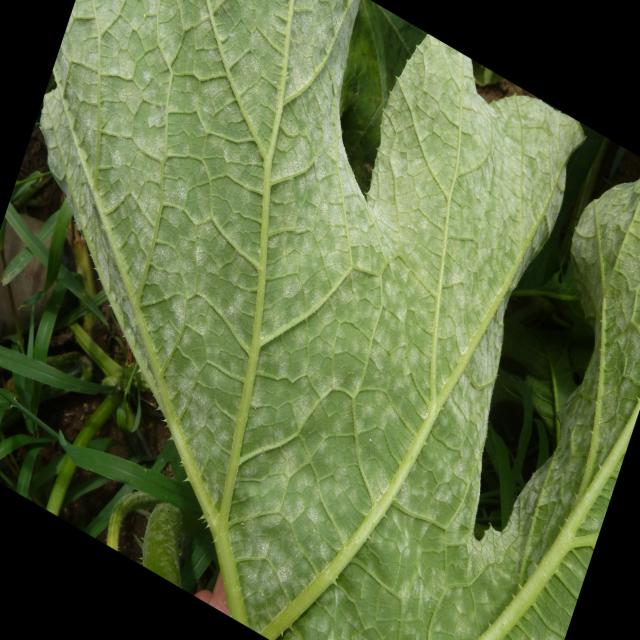Powdery Mildew: (28, 1, 617, 637)
